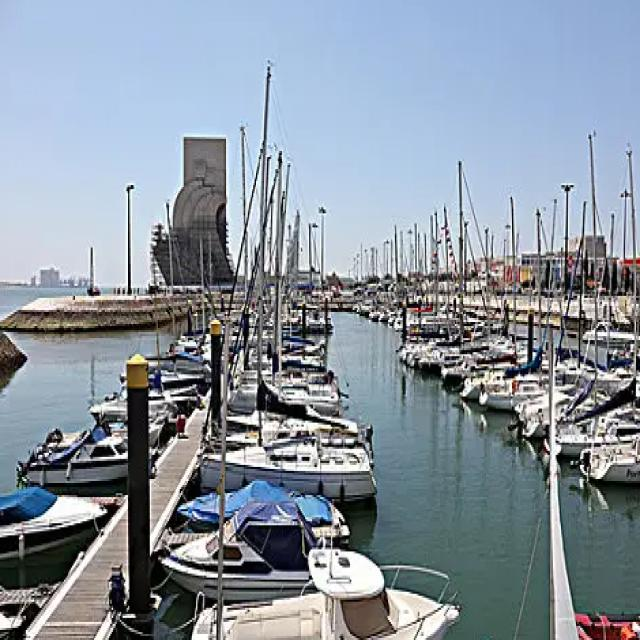houseboat: (182, 535, 463, 640), (164, 499, 345, 587), (210, 426, 380, 499), (0, 477, 125, 567), (23, 414, 150, 484), (97, 379, 182, 423)
